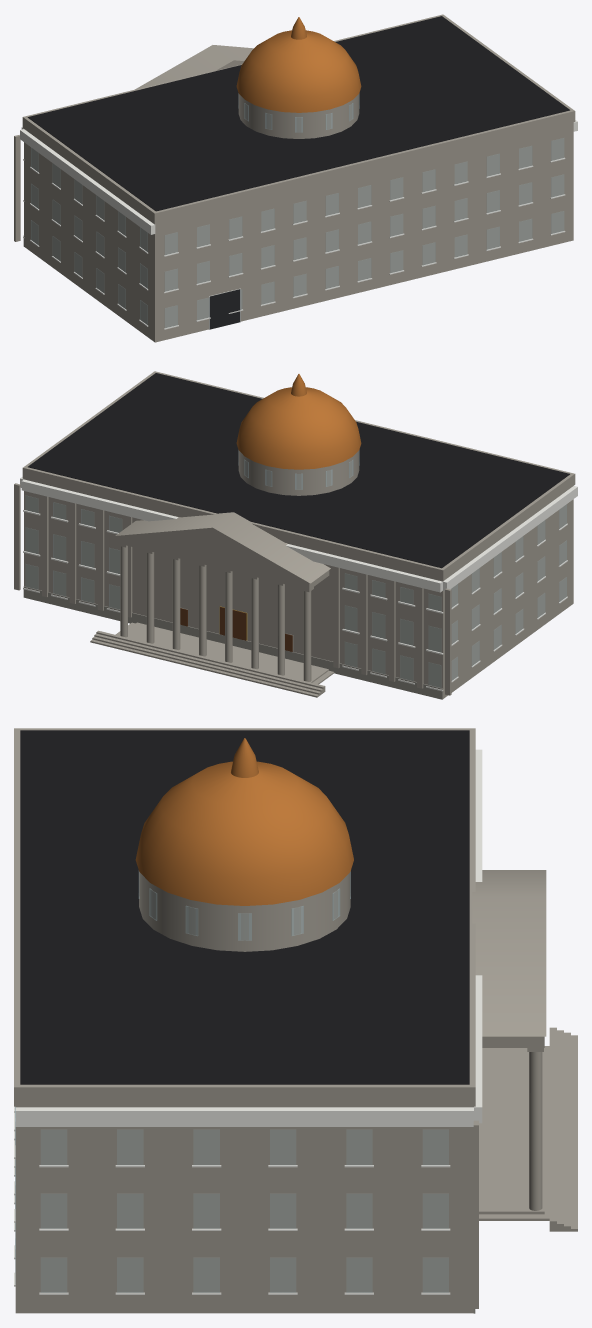
The model's file is context.type.law_courts.glb.
3 renders of one model, top to bottom at view 1: azimuth 30°, elevation 25°; view 2: azimuth 150°, elevation 25°; view 3: azimuth 270°, elevation 25°, orthographic. The views are drawn at different scales.
Visible parts, largest first — view 1: walls__paving, roof__roof_felt, roof__paving, openings__glass, roof__copper, openings__paint_white, openings__steel_dark, openings__paving, roof__glass; view 2: walls__paving, roof__roof_felt, roof__paving, openings__glass, roof__copper, openings__paving, openings__paint_white, openings__concrete, openings__hardwood, roof__glass; view 3: roof__roof_felt, walls__paving, roof__paving, roof__copper, openings__glass, openings__paint_white, roof__glass, openings__paving.
Part boxes in pixels (<box>): walls__paving: <box>24,122,573,342</box>; roof__roof_felt: <box>27,16,569,211</box>; roof__paving: <box>22,14,575,224</box>; openings__glass: <box>31,138,563,327</box>; roof__copper: <box>236,17,361,112</box>; openings__paint_white: <box>20,120,577,329</box>; openings__steel_dark: <box>209,289,240,329</box>; openings__paving: <box>14,135,20,241</box>; roof__glass: <box>244,93,359,132</box>; walls__paving: <box>24,479,573,698</box>; roof__roof_felt: <box>28,373,569,568</box>; roof__paving: <box>22,371,575,589</box>; openings__glass: <box>25,496,566,687</box>; roof__copper: <box>236,374,361,469</box>; openings__paving: <box>14,483,451,695</box>; openings__paint_white: <box>20,477,577,691</box>; openings__concrete: <box>23,586,442,699</box>; openings__hardwood: <box>180,607,292,651</box>; roof__glass: <box>244,450,359,489</box>; roof__roof_felt: <box>20,730,469,1084</box>; walls__paving: <box>15,1027,577,1313</box>; roof__paving: <box>14,728,546,1106</box>; roof__copper: <box>135,738,353,905</box>; openings__glass: <box>15,1106,448,1292</box>; openings__paint_white: <box>14,749,482,1294</box>; roof__glass: <box>139,871,350,940</box>; openings__paving: <box>473,1120,478,1308</box>.
Bounding box in the file's own units: 50 × 24.84 × 32.
